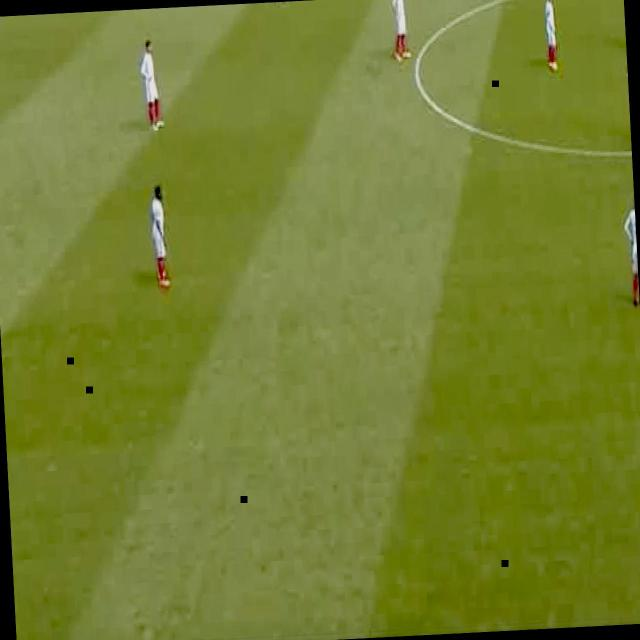player-white: (138, 40, 165, 133), (148, 185, 170, 288), (622, 192, 640, 308), (391, 0, 411, 63), (542, 0, 559, 74), (625, 51, 631, 138)
